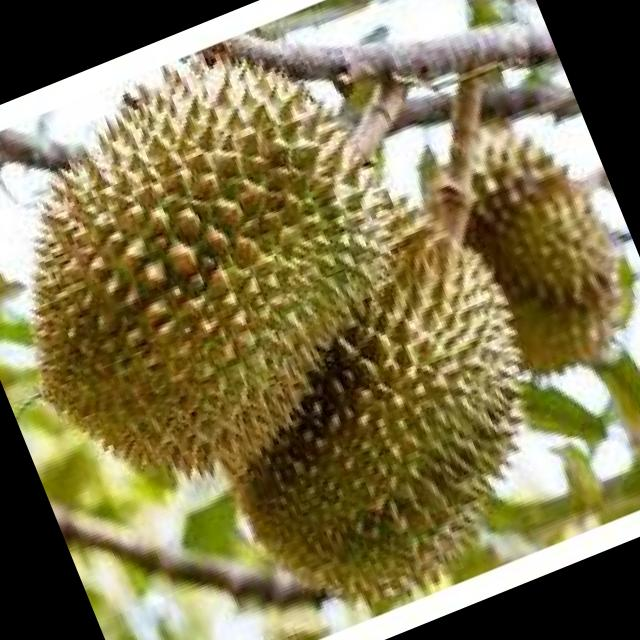fruit: (0, 0, 457, 520), (170, 250, 609, 640)
